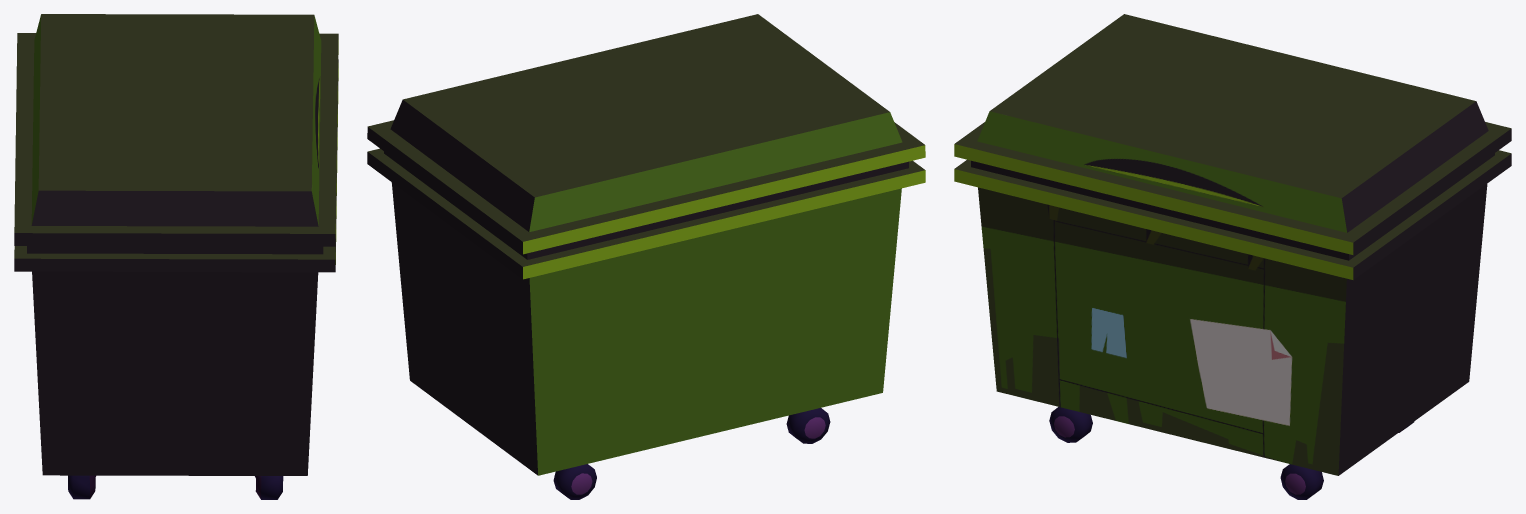
Rendered from trash.fbx.
The picture shows the model from 3 angles, left to right: view 1: azimuth 30°, elevation 25°; view 2: azimuth 150°, elevation 25°; view 3: azimuth 270°, elevation 25°; orthographic projection. The views are drawn at different scales.
Parts seen in each view (by area): view 1: Garbage.001_Others_0; view 2: Garbage.001_Others_0; view 3: Garbage.001_Others_0.
Part boxes in pixels (box(x1,y1,x2,y2)): Garbage.001_Others_0: box(14, 14, 338, 499); Garbage.001_Others_0: box(367, 14, 925, 499); Garbage.001_Others_0: box(954, 14, 1511, 499).
Size of the model in its own units: 36.22 by 26.07 by 40.04.
